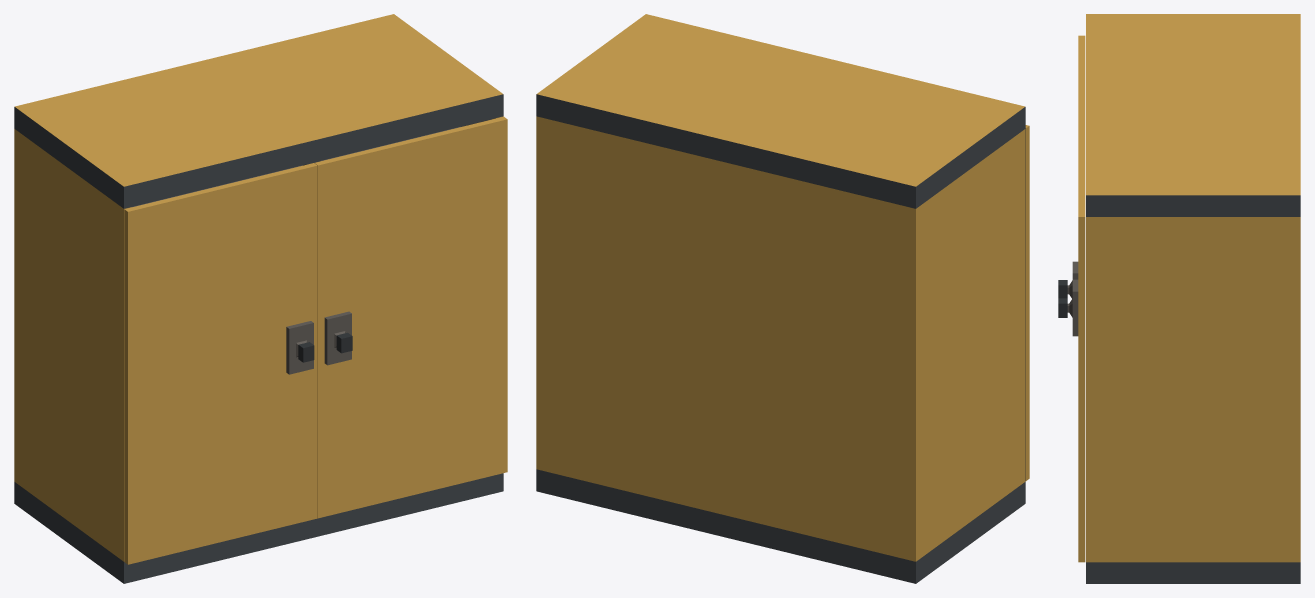
File: dryingcabinetlarge_01_D.gltf
The picture shows the model from 3 angles, left to right: view 1: azimuth 30°, elevation 25°; view 2: azimuth 150°, elevation 25°; view 3: azimuth 270°, elevation 25°; orthographic projection. The views are drawn at different scales.
Parts seen in each view (by area): view 1: dryingcabinetlarge_01_D, Doordryingcabinetlargeleft_01_D, Doordryingcabinetlargeright_01_D; view 2: dryingcabinetlarge_01_D, Doordryingcabinetlargeleft_01_D; view 3: dryingcabinetlarge_01_D, Doordryingcabinetlargeright_01_D, Doordryingcabinetlargeleft_01_D.
Boxes of the visible parts, x1,y1,x2,y2 form: dryingcabinetlarge_01_D: [14, 14, 503, 583]; Doordryingcabinetlargeleft_01_D: [124, 163, 317, 564]; Doordryingcabinetlargeright_01_D: [314, 116, 507, 518]; dryingcabinetlarge_01_D: [536, 14, 1025, 583]; Doordryingcabinetlargeleft_01_D: [1025, 125, 1029, 480]; dryingcabinetlarge_01_D: [1086, 14, 1300, 583]; Doordryingcabinetlargeright_01_D: [1058, 126, 1085, 562]; Doordryingcabinetlargeleft_01_D: [1058, 35, 1085, 298].
Bounding box in the file's own units: 2 × 2 × 1.13.
Materials: 1 (1 with a texture image).
